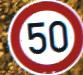Speed Limit -50-: (0, 1, 82, 74)
